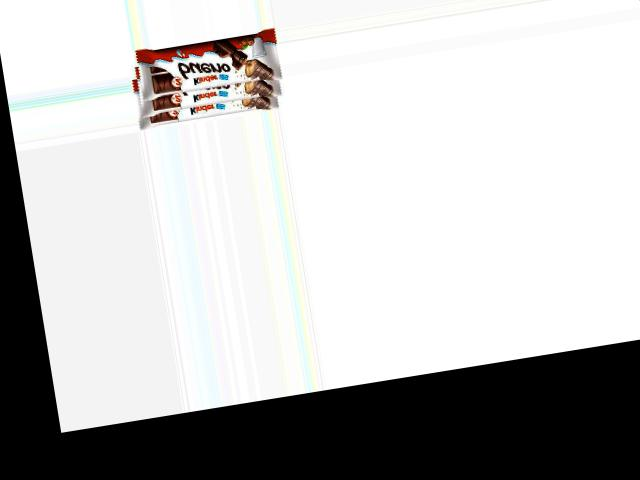chocolate: (128, 27, 283, 130)
